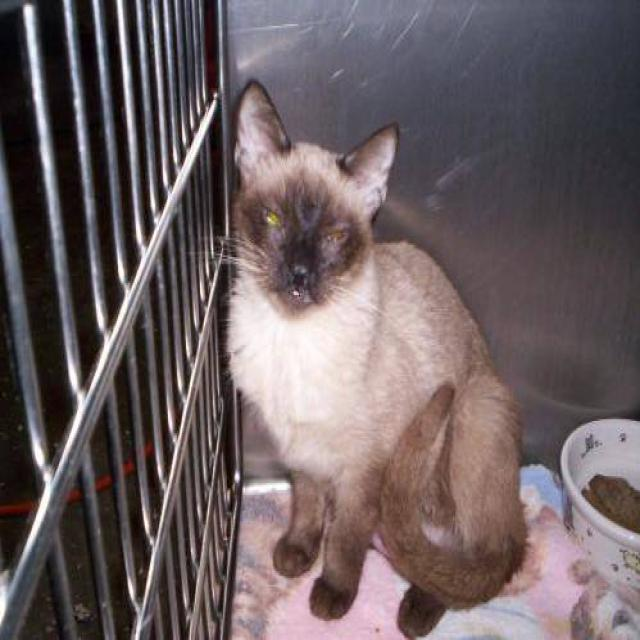cat: (218, 78, 528, 638)
